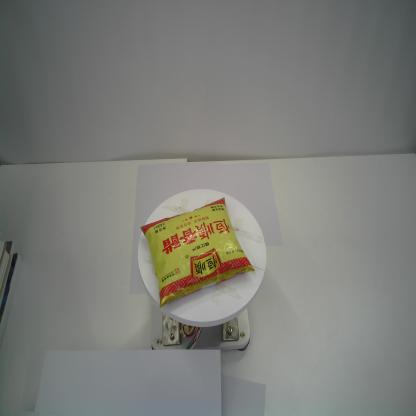Seasoner: (139, 196, 255, 309)
